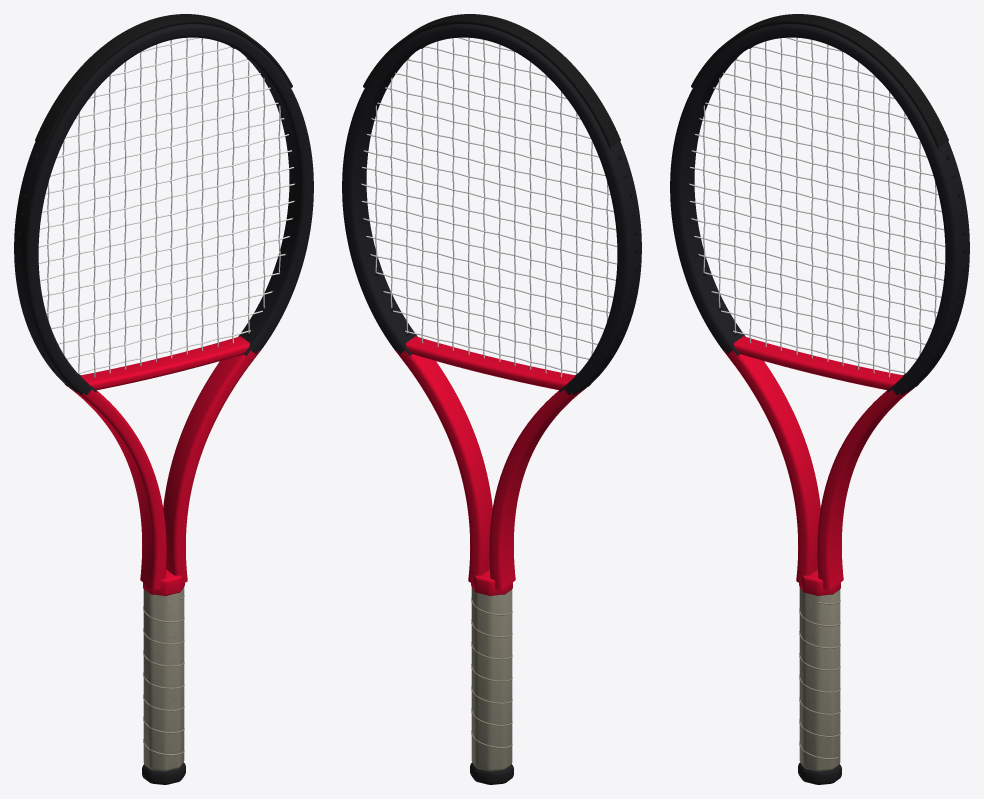
Rendered from wilson-clash-100-v3.glb.
The picture shows the model from 3 angles, left to right: view 1: azimuth 30°, elevation 25°; view 2: azimuth 150°, elevation 25°; view 3: azimuth 330°, elevation 25°; orthographic projection.
Visible parts, largest first — view 1: Frame, Strings, Handle, Bumper, Yoke, GripSeam, ButtCap, Collar; view 2: Frame, Strings, Handle, Bumper, Yoke, GripSeam, ButtCap, Collar; view 3: Frame, Strings, Handle, Bumper, Yoke, GripSeam, ButtCap, Collar.
Boxes of the visible parts, x1,y1,x2,y2 form: Frame: (14, 24, 313, 589); Strings: (38, 37, 294, 377); Handle: (143, 587, 184, 771); Bumper: (35, 14, 292, 147); Yoke: (81, 336, 249, 389); GripSeam: (143, 595, 184, 755); ButtCap: (142, 762, 185, 784); Collar: (143, 569, 184, 595); Frame: (342, 24, 641, 589); Strings: (361, 37, 617, 377); Handle: (471, 587, 512, 771); Bumper: (363, 14, 620, 147); Yoke: (406, 336, 574, 389); GripSeam: (471, 598, 512, 748); ButtCap: (470, 762, 513, 784); Collar: (471, 569, 512, 595); Frame: (670, 24, 969, 589); Strings: (689, 37, 945, 377); Handle: (799, 587, 840, 771); Bumper: (691, 14, 948, 147); Yoke: (734, 336, 902, 389); GripSeam: (799, 600, 840, 759); ButtCap: (798, 762, 841, 784); Collar: (799, 569, 840, 595).
Size of the model in its own units: 0.2758 by 0.6886 by 0.0327.
Materials: 6 (1 with a texture image).
